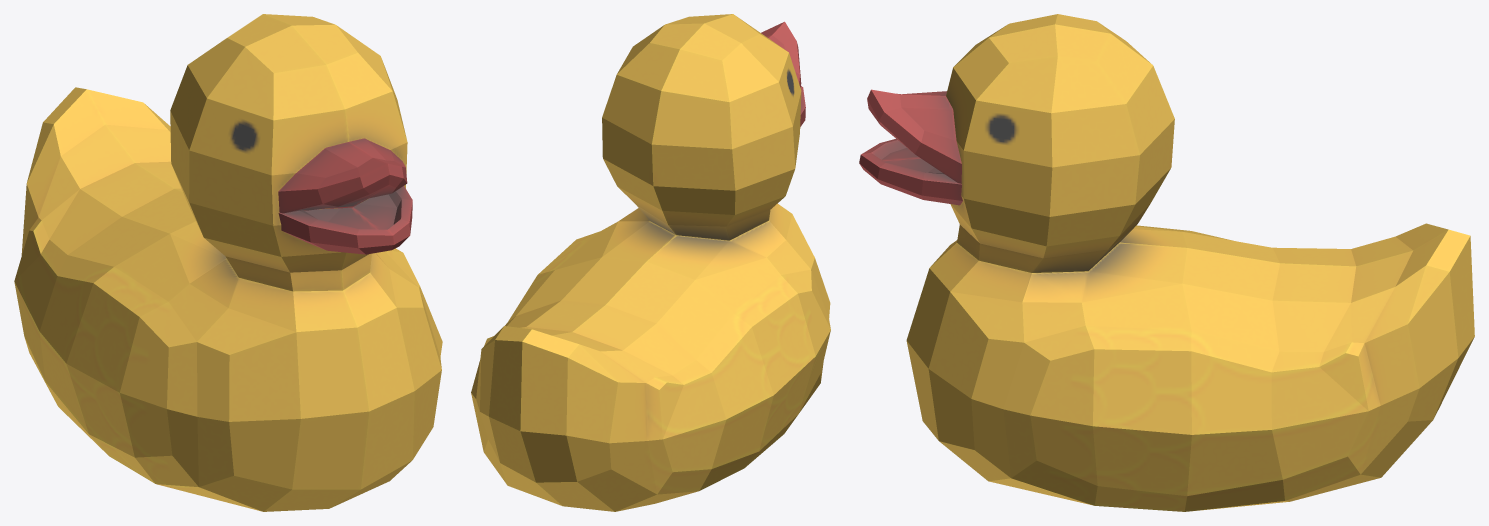
The model's file is misc-rubberDuck.glb.
3 renders of one model, left to right at view 1: azimuth 30°, elevation 25°; view 2: azimuth 150°, elevation 25°; view 3: azimuth 270°, elevation 25°, orthographic. The views are drawn at different scales.
Visible parts, largest first — view 1: node-0; view 2: node-0; view 3: node-0.
Part boxes in pixels (x1,y1,x2,y2): node-0: (14, 14, 442, 511); node-0: (471, 14, 830, 511); node-0: (859, 14, 1474, 511).
Bounding box in the file's own units: 3.97 × 5.82 × 7.16.
Materials: 1 (1 with a texture image).
